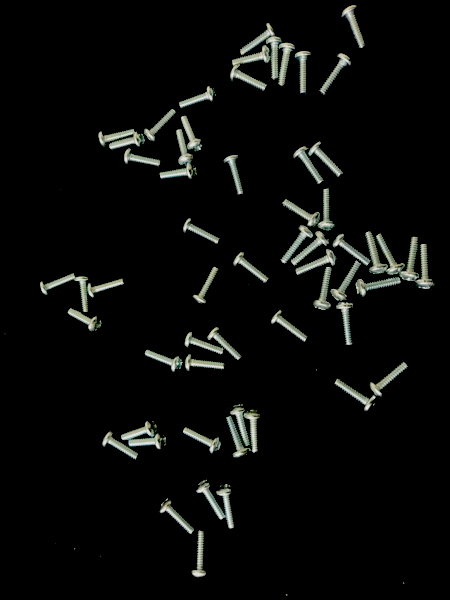shortscrew: (318, 53, 354, 97), (368, 361, 410, 398), (334, 378, 377, 413), (158, 498, 195, 536), (270, 309, 310, 344), (309, 140, 345, 178), (331, 232, 370, 267), (375, 233, 407, 275), (233, 250, 271, 285), (280, 226, 314, 265), (291, 231, 330, 265), (282, 198, 323, 229), (331, 261, 362, 302), (196, 479, 226, 521), (341, 4, 368, 50), (101, 431, 141, 462), (207, 327, 243, 361), (293, 146, 324, 185), (240, 23, 279, 54), (296, 249, 338, 276), (230, 64, 269, 93), (192, 266, 220, 306), (225, 417, 251, 459), (144, 109, 177, 142), (182, 218, 222, 245), (183, 428, 223, 454), (365, 231, 389, 274), (312, 267, 335, 311), (356, 277, 402, 299), (40, 271, 78, 297), (416, 244, 437, 290), (191, 530, 210, 579), (224, 154, 246, 196), (400, 237, 421, 281), (217, 484, 237, 530), (144, 350, 184, 373), (185, 331, 225, 354), (230, 405, 251, 447), (67, 309, 102, 334), (295, 50, 314, 96), (181, 114, 204, 152), (317, 188, 337, 231), (179, 86, 218, 108), (336, 302, 355, 347), (120, 419, 158, 441), (244, 409, 263, 453), (89, 276, 127, 298), (232, 46, 270, 68), (266, 36, 284, 82), (278, 43, 296, 87), (123, 148, 162, 167), (98, 128, 135, 148), (185, 354, 226, 372), (177, 129, 196, 167), (109, 131, 147, 150), (128, 432, 168, 450), (160, 163, 199, 181), (75, 276, 92, 314)
